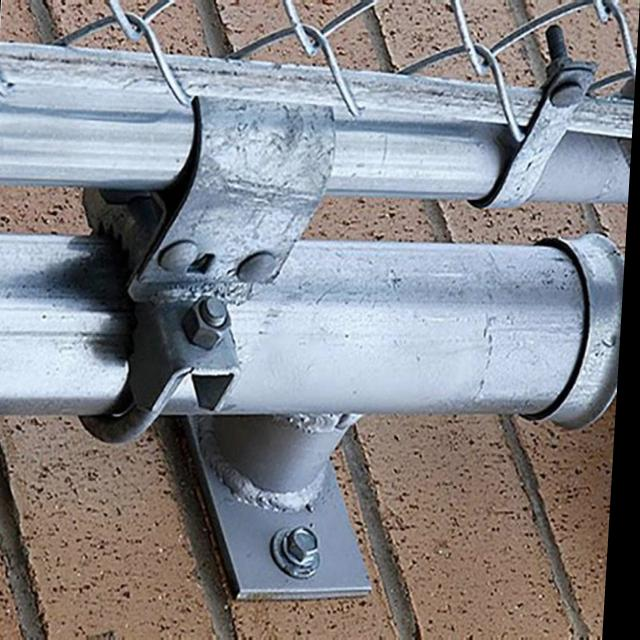Regular bolt: (190, 297, 236, 351), (288, 528, 328, 569)
